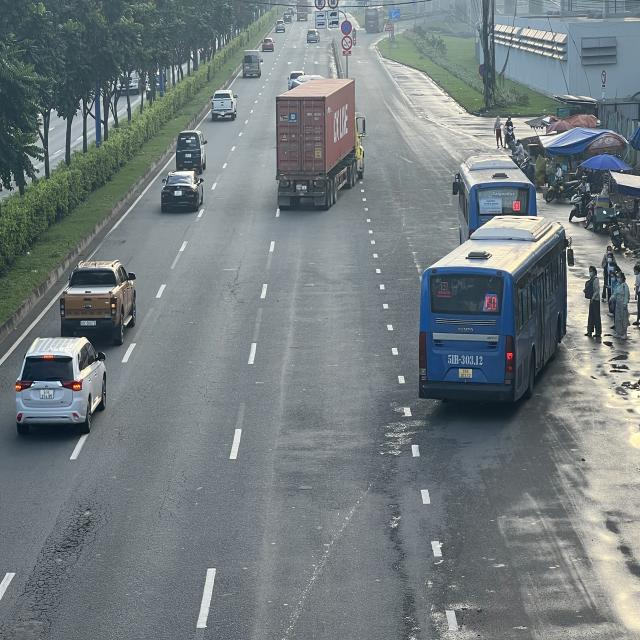car: (15, 334, 109, 431), (59, 260, 136, 346), (161, 170, 204, 212)
coach: (417, 214, 565, 408), (452, 151, 537, 232)
container: (276, 75, 366, 211)
van: (175, 129, 207, 172), (241, 50, 262, 80)
